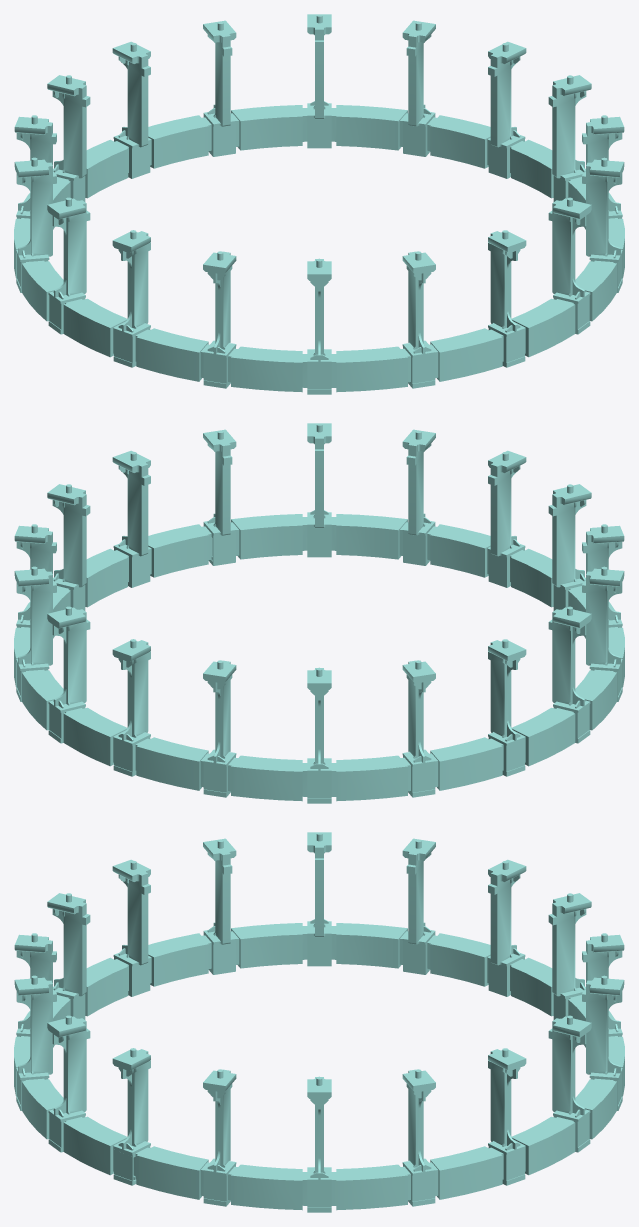
3 views of the same model, one above another, from view 1: azimuth 30°, elevation 25°; view 2: azimuth 150°, elevation 25°; view 3: azimuth 270°, elevation 25° (orthographic).
Visible parts, largest first — view 1: ITER_MESH__pf4; view 2: ITER_MESH__pf4; view 3: ITER_MESH__pf4.
Boxes of the visible parts, x1,y1,x2,y2 form: ITER_MESH__pf4: (14,14,624,394); ITER_MESH__pf4: (14,423,624,803); ITER_MESH__pf4: (14,832,624,1212).
Size of the model in its own units: 25.39 by 5.83 by 25.24.
